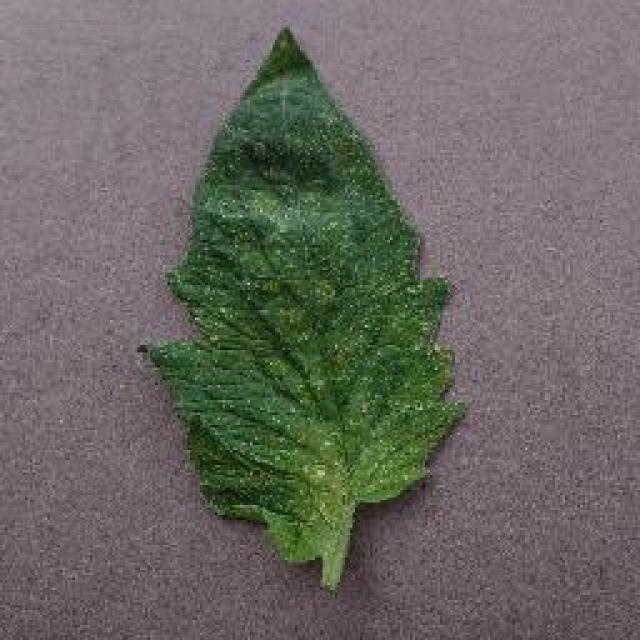Tomato mosaic virus leaf: (139, 26, 461, 576)
